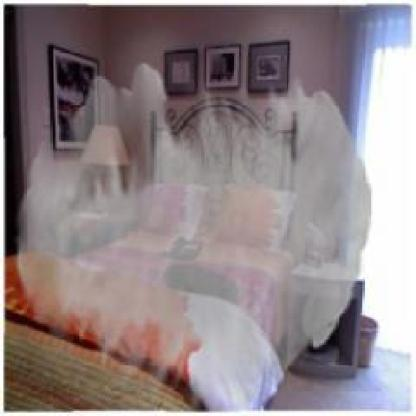Smoke: (15, 63, 372, 413)
